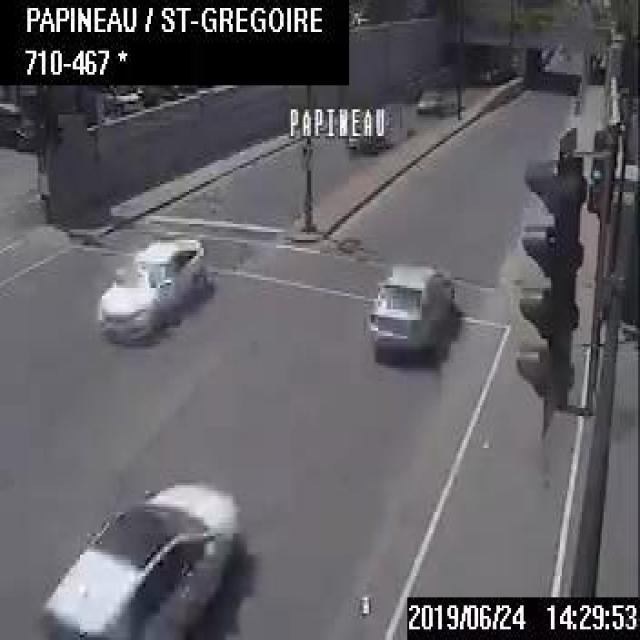vehicle: (33, 475, 236, 637), (96, 232, 204, 336), (366, 259, 454, 344), (415, 83, 440, 109), (40, 630, 75, 638)
